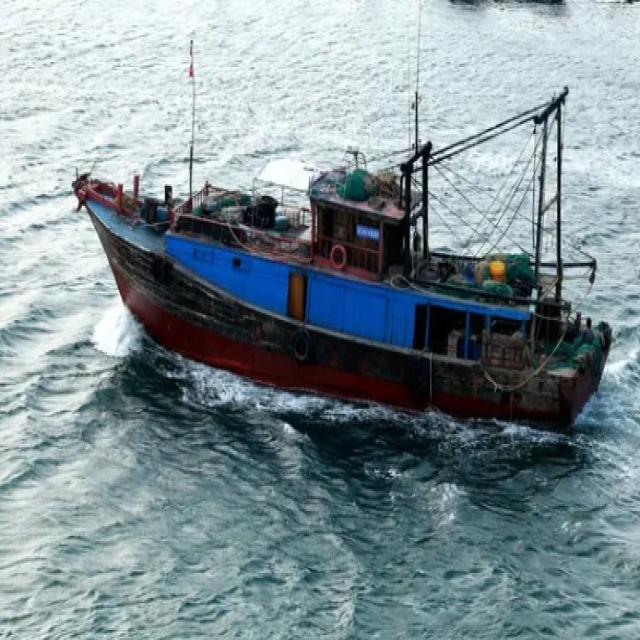fishing boat: (83, 38, 622, 438)
